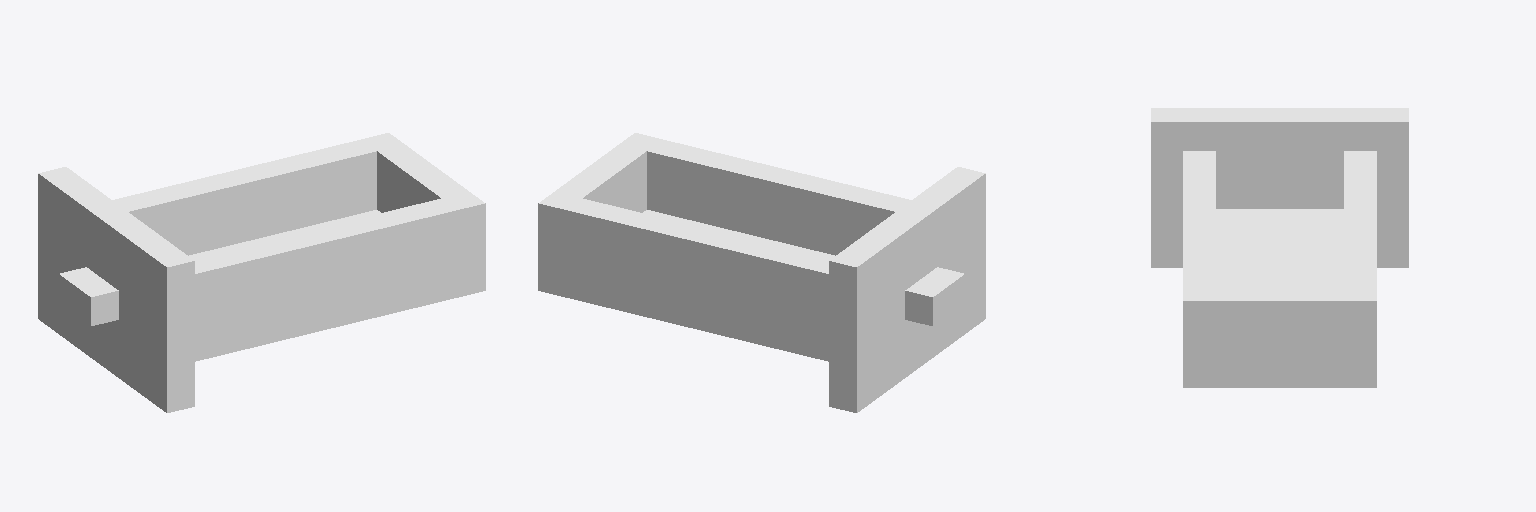
Rendered from Kitchen_cabinets-9.obj.
3 renders of one model, left to right at view 1: azimuth 30°, elevation 25°; view 2: azimuth 150°, elevation 25°; view 3: azimuth 270°, elevation 25°, orthographic.
Visible parts, largest first — view 1: object 1; view 2: object 1; view 3: object 1.
Part boxes in pixels (bbox=[...]): object 1: bbox=[38, 133, 485, 412]; object 1: bbox=[538, 133, 985, 412]; object 1: bbox=[1151, 108, 1408, 387].
Bounding box in the file's own units: 1.3 × 0.5 × 0.8.